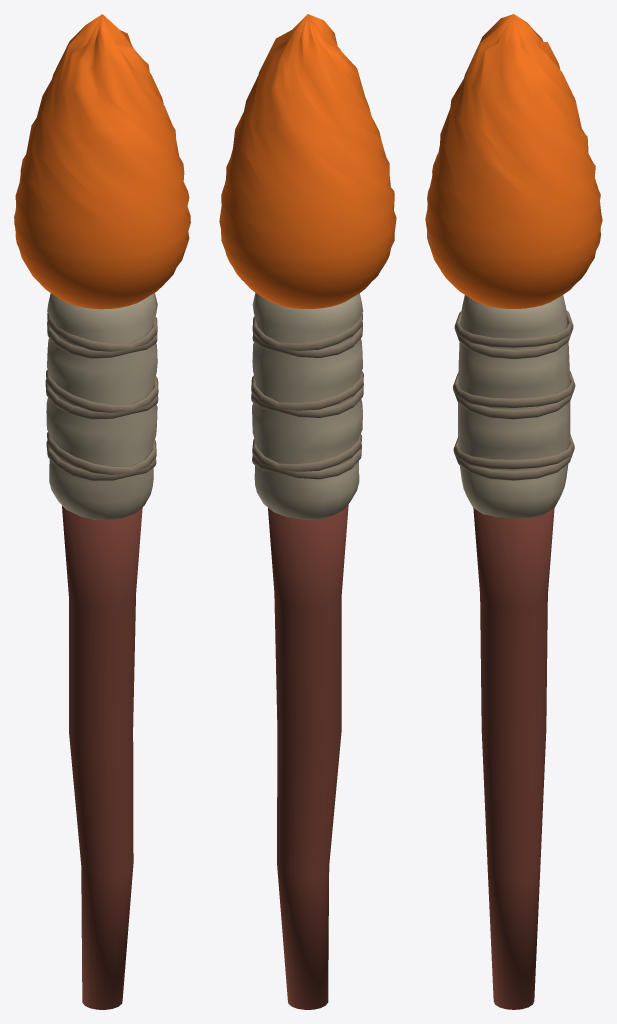
Rendered from Torch.fbx.
3 views of the same model, side by side, from view 1: azimuth 30°, elevation 25°; view 2: azimuth 150°, elevation 25°; view 3: azimuth 270°, elevation 25° (orthographic).
Visible parts, largest first — view 1: Sphere, Cylinder, Cube, Cube.001; view 2: Sphere, Cylinder, Cube, Cube.001; view 3: Sphere, Cylinder, Cube, Cube.001.
Part boxes in pixels (left/top/right/bottom): Sphere: left=14, top=14, right=190, bottom=309; Cylinder: left=62, top=506, right=142, bottom=1009; Cube: left=46, top=293, right=157, bottom=520; Cube.001: left=45, top=313, right=158, bottom=480; Sphere: left=219, top=14, right=396, bottom=308; Cylinder: left=268, top=504, right=348, bottom=1009; Cube: left=252, top=293, right=363, bottom=520; Cube.001: left=251, top=313, right=363, bottom=479; Sphere: left=425, top=14, right=602, bottom=308; Cylinder: left=473, top=507, right=554, bottom=1009; Cube: left=458, top=295, right=570, bottom=518; Cube.001: left=453, top=310, right=575, bottom=480.
Bounding box in the file's own units: 32.16 × 198 × 32.16.
